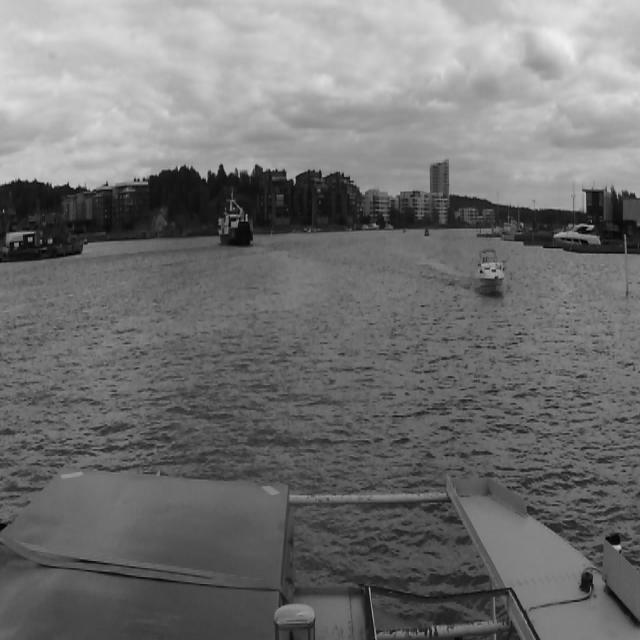buoy: (620, 231, 632, 299), (269, 229, 273, 241)
ship: (216, 184, 256, 255), (472, 247, 508, 293), (552, 220, 602, 253), (425, 226, 430, 236)
